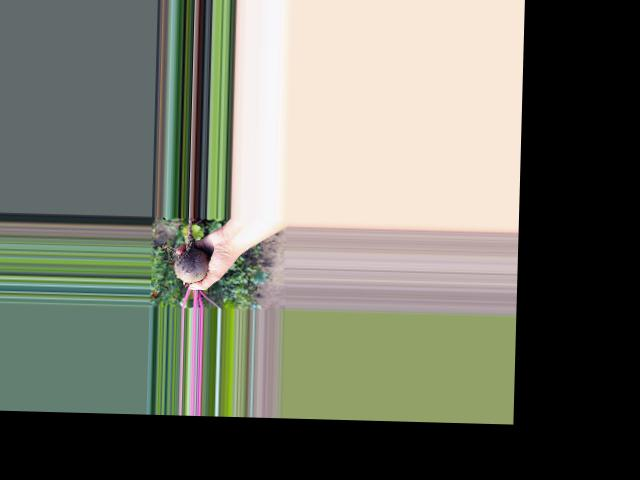beet: (159, 216, 223, 308)
